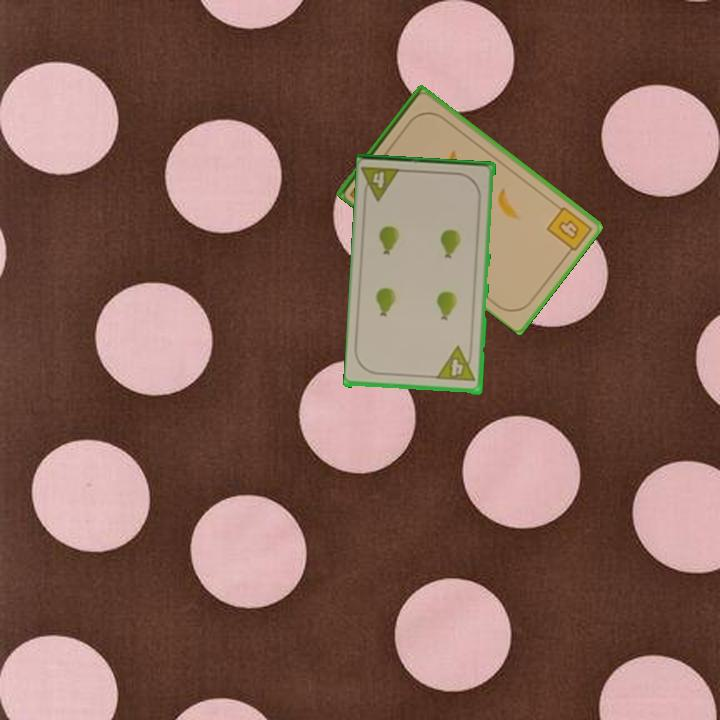4b: (543, 203, 594, 258)
4p: (360, 163, 405, 204), (434, 344, 478, 385)
